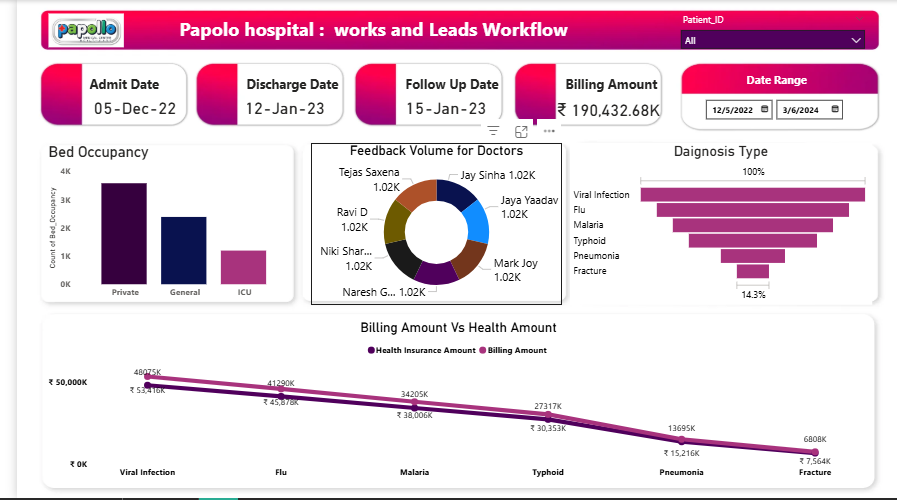

The dashboard page shown, as its layout file describes it:
{"tool":"powerbi","page":{"name":"Page 1","canvas":[1280,720],"ordinal":0},"visuals":[{"type":"image","box":[40.1,15.1,119.3,58.8],"z":0},{"type":"textbox","box":[229.9,16.8,589.6,57.1],"z":1000},{"type":"slicer","fields":{"Values":["Sheet1 (2).Patient_ID"]},"box":[949.9,14.5,286.3,56.4],"z":2000},{"type":"card","fields":{"Values":["Sheet1 (2).Admit_Date"]},"box":[24.6,125.8,292,60.7],"z":3000},{"type":"textbox","box":[99.8,104.1,141.7,43.4],"z":4000},{"type":"textbox","box":[326.7,104.1,173.5,59.3],"z":5000},{"type":"card","fields":{"Values":["Sheet1 (2).Discharge_Date"]},"box":[241.4,125.8,292,60.7],"z":6000},{"type":"textbox","box":[556.6,104.1,167.7,59.3],"z":7000},{"type":"card","fields":{"Values":["Sheet1 (2).Followup Date"]},"box":[474.2,125.8,292,60.7],"z":8000},{"type":"textbox","box":[788,104.1,172,43.4],"z":9000},{"type":"card","fields":{"Values":["Sheet1 (2).Billing Amount"]},"box":[738.8,134.5,232.8,49.2],"z":10000},{"type":"slicer","fields":{"Values":["Sheet1 (2).Admit_Date"]},"box":[982.9,134.3,231.4,41.4],"z":11000},{"type":"columnChart","title":"Bed Occupancy","fields":{"Category":["Sheet1 (2).Bed_Occupancy"],"Y":["Sheet1 (2).Bed_Occupancy"]},"box":[40.5,206.7,362.9,234.2],"z":12000},{"type":"donutChart","title":"Feedback Volume for Doctors","fields":{"Category":["Sheet1 (2).Doctor"],"Y":["Sheet1 (2).Doctor"]},"box":[425.1,206.7,362.9,234.2],"z":13000},{"type":"funnel","title":"Daignosis Type","fields":{"Category":["Sheet1 (2).Diagnosis"],"Y":["Sheet1 (2).Diagnosis"]},"box":[799.5,206.7,436.6,234.2],"z":14000},{"type":"lineChart","title":"Billing Amount Vs Health Amount","fields":{"Y":["Sheet1 (2).Health Insurance Amount","Sheet1 (2).Billing Amount"],"Category":["Sheet1 (2).Diagnosis"]},"box":[40,462.9,1195.7,238.6],"z":15000},{"type":"textbox","box":[998.6,100,198.6,34.3],"z":16000}]}

Visuals, with their boxes in screenshot pixels (x1, y1, x2, y2), scaled from the page's 1280x720 canvas onto the 897x500 screenshot:
image: pyautogui.locateOnScreen(28, 10, 112, 51)
textbox: pyautogui.locateOnScreen(161, 12, 574, 51)
slicer - Sheet1 (2).Patient_ID: pyautogui.locateOnScreen(666, 10, 866, 49)
card - Sheet1 (2).Admit_Date: pyautogui.locateOnScreen(17, 87, 222, 130)
textbox: pyautogui.locateOnScreen(70, 72, 169, 102)
textbox: pyautogui.locateOnScreen(229, 72, 351, 113)
card - Sheet1 (2).Discharge_Date: pyautogui.locateOnScreen(169, 87, 374, 130)
textbox: pyautogui.locateOnScreen(390, 72, 508, 113)
card - Sheet1 (2).Followup Date: pyautogui.locateOnScreen(332, 87, 537, 130)
textbox: pyautogui.locateOnScreen(552, 72, 673, 102)
card - Sheet1 (2).Billing Amount: pyautogui.locateOnScreen(518, 93, 681, 128)
slicer - Sheet1 (2).Admit_Date: pyautogui.locateOnScreen(689, 93, 851, 122)
"Bed Occupancy" columnChart: pyautogui.locateOnScreen(28, 144, 283, 306)
"Feedback Volume for Doctors" donutChart: pyautogui.locateOnScreen(298, 144, 552, 306)
"Daignosis Type" funnel: pyautogui.locateOnScreen(560, 144, 866, 306)
"Billing Amount Vs Health Amount" lineChart: pyautogui.locateOnScreen(28, 321, 866, 487)
textbox: pyautogui.locateOnScreen(700, 69, 839, 93)
